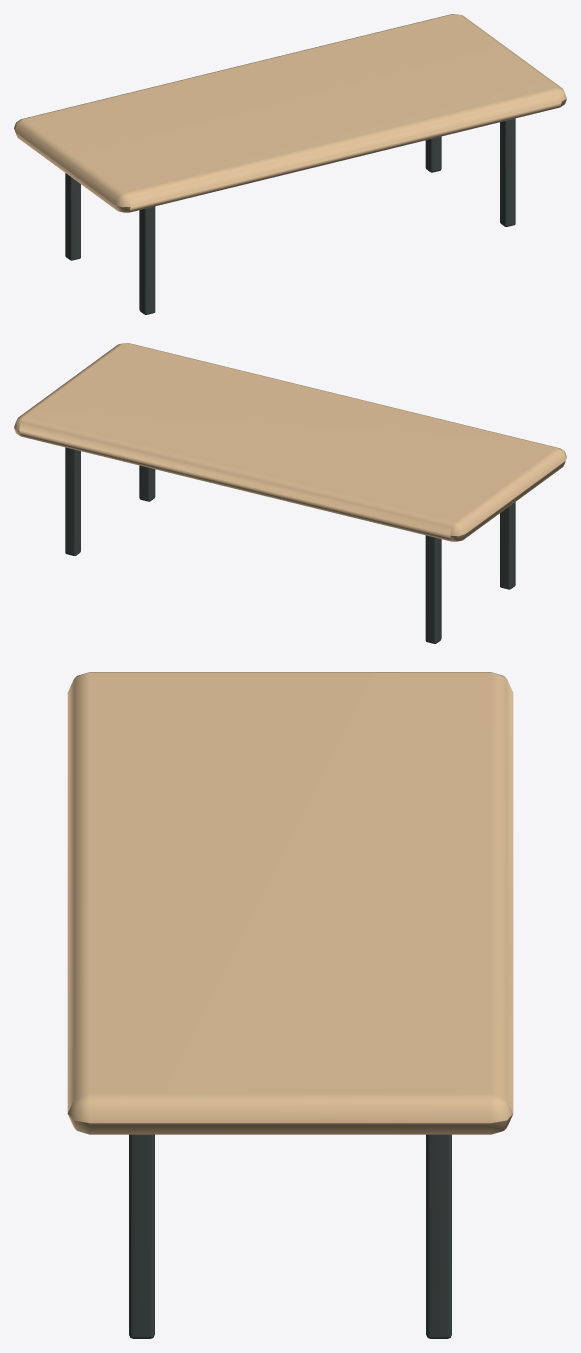
File: table.glb
The picture shows the model from 3 angles, top to bottom: view 1: azimuth 30°, elevation 25°; view 2: azimuth 150°, elevation 25°; view 3: azimuth 270°, elevation 25°; orthographic projection. The views are drawn at different scales.
Parts seen in each view (by area): view 1: V2_table_batched; view 2: V2_table_batched; view 3: V2_table_batched.
Boxes of the visible parts, x1=… form: V2_table_batched: x1=14, y1=14, x2=566, y2=314; V2_table_batched: x1=14, y1=343, x2=566, y2=643; V2_table_batched: x1=67, y1=672, x2=513, y2=1338.
Bounding box in the file's own units: 2.8 × 0.82 × 1.2.
